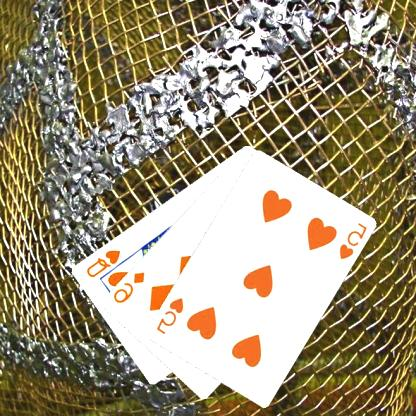5H: (337, 219, 370, 262), (155, 295, 187, 336)
9D: (111, 269, 148, 304)
QH: (85, 247, 123, 278)
